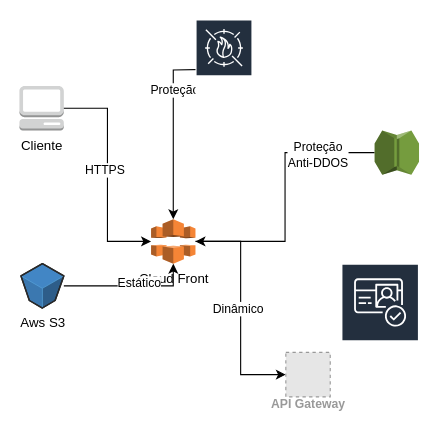
The diagram is 448 pixels wide and 432 high, and some of its shapes have lost their labels. Grey dashed boxes stand in for pictures. The shapes that lost their labels are listed below. From the top down, each one's centre as x and y in pixels, then its label:
point 223,57: AWS WAF
point 396,152: Aws Shield
